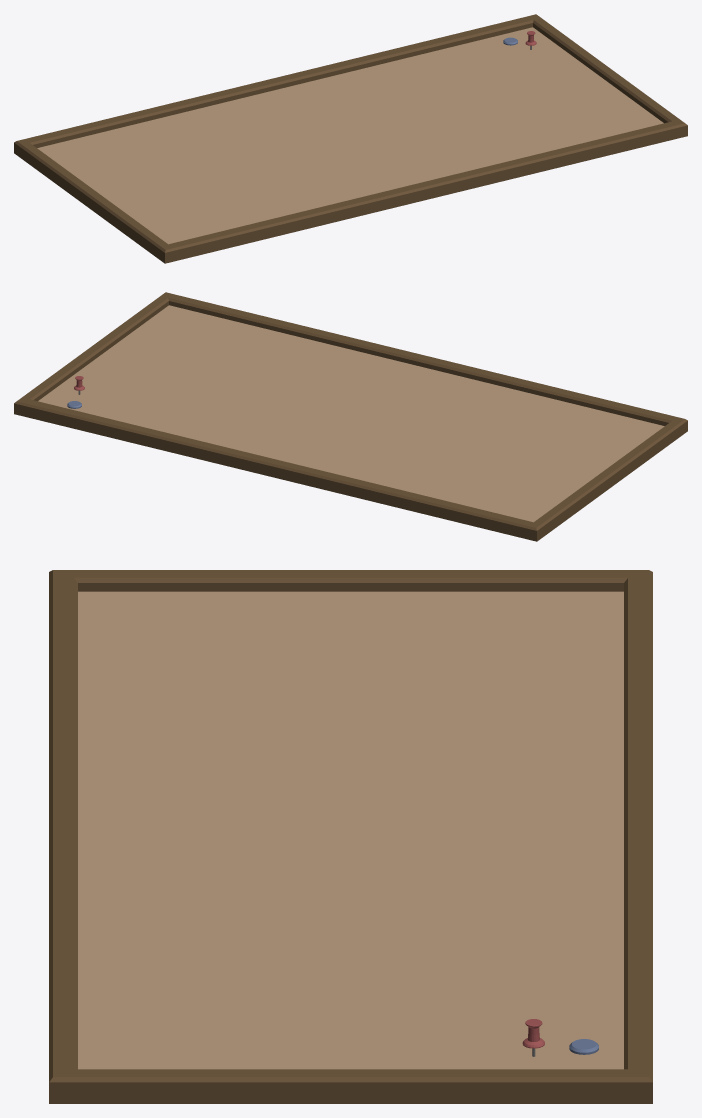
The model's file is Notice_Board.fbx.
3 renders of one model, top to bottom at view 1: azimuth 30°, elevation 25°; view 2: azimuth 150°, elevation 25°; view 3: azimuth 270°, elevation 25°, orthographic. The views are drawn at different scales.
Parts seen in each view (by area): view 1: Notice_Board; view 2: Notice_Board; view 3: Notice_Board.
Boxes of the visible parts, x1,y1,x2,y2 form: Notice_Board: (14, 14, 687, 263); Notice_Board: (14, 292, 687, 541); Notice_Board: (49, 570, 652, 1103).
Bounding box in the file's own units: 13 × 0.5554 × 6.5.
